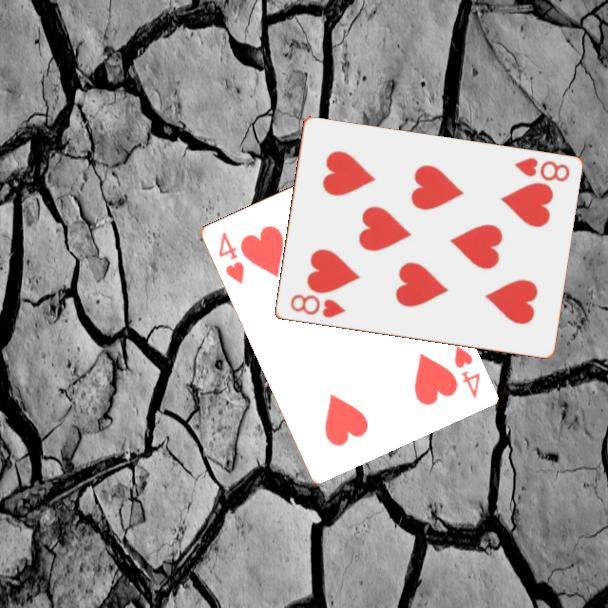h04: (214, 228, 247, 287), (450, 342, 483, 401)
h08: (511, 154, 572, 185), (286, 291, 348, 321)
